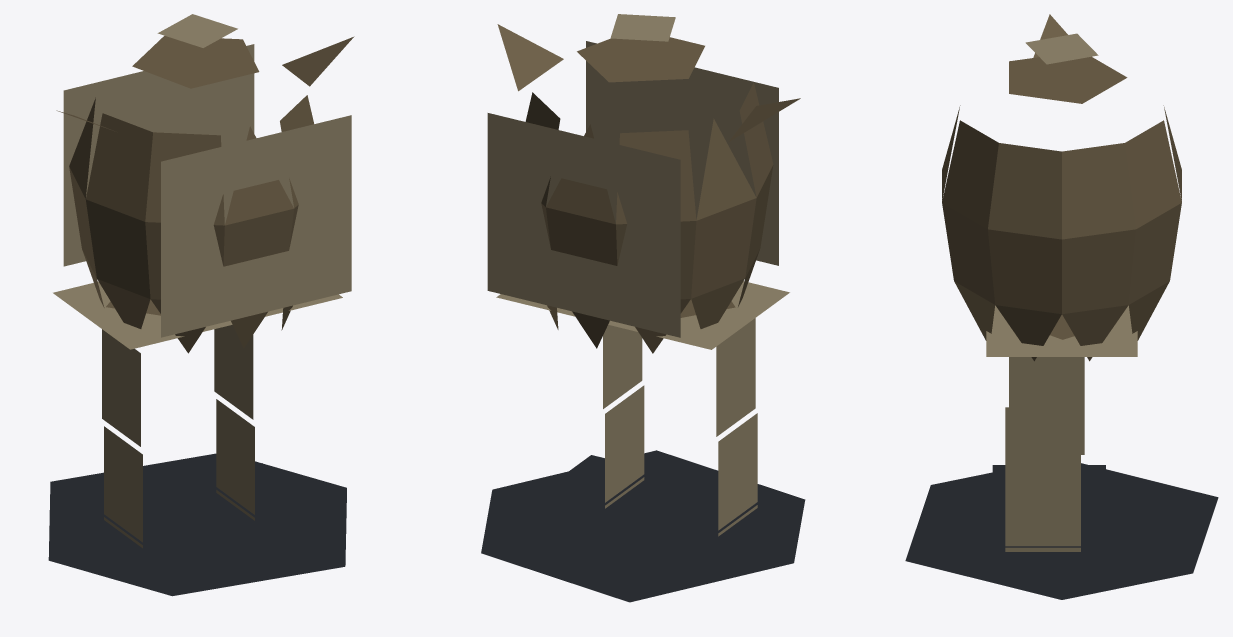
File: durafiber-battle-armor.lod.glb
3 views of the same model, side by side, from view 1: azimuth 30°, elevation 25°; view 2: azimuth 150°, elevation 25°; view 3: azimuth 270°, elevation 25° (orthographic). The views are drawn at different scales.
Visible parts, largest first — view 1: m; view 2: m; view 3: m.
Part boxes in pixels (box(x1,y1,x2,y2)): m: box(48, 14, 354, 596); m: box(481, 14, 805, 602); m: box(905, 14, 1218, 599).
Bounding box in the file's own units: 0.3318 × 0.4248 × 0.2398.
